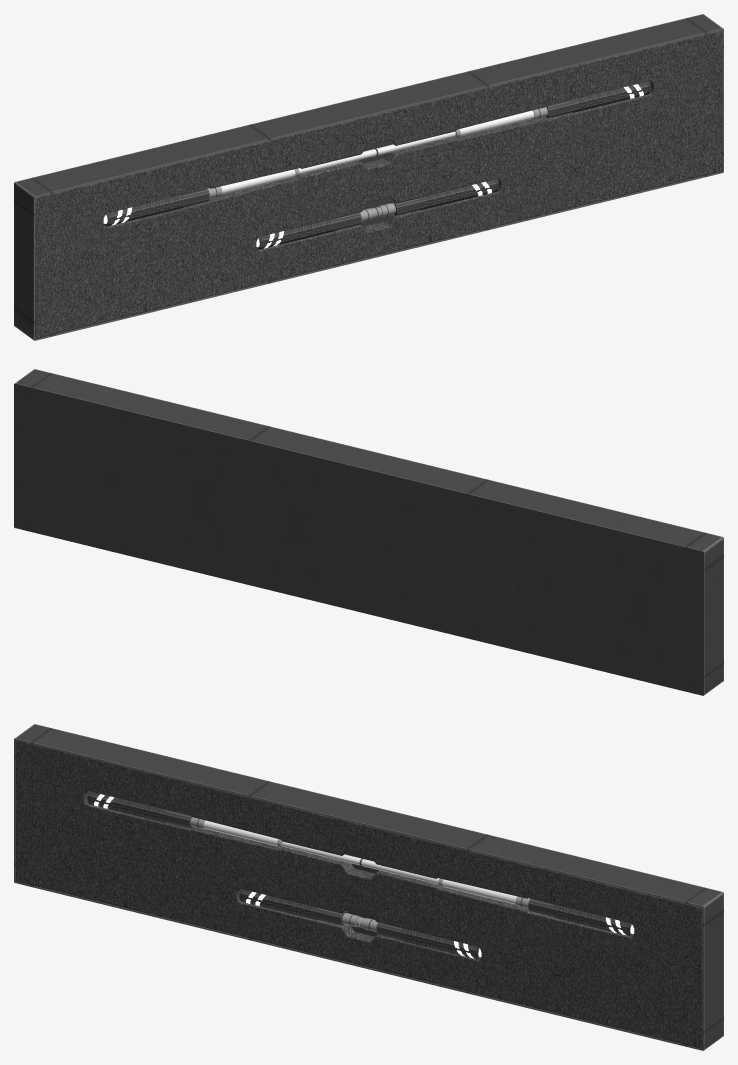
File: MeleeEnergyStaff01Case.FBX
3 renders of one model, top to bottom at view 1: azimuth 30°, elevation 25°; view 2: azimuth 150°, elevation 25°; view 3: azimuth 330°, elevation 25°, orthographic.
Parts seen in each view (by area): view 1: Case, Weapon; view 2: Case; view 3: Case, Weapon.
Boxes of the visible parts, bbox=[...] form: Case: bbox=[14, 14, 723, 340]; Weapon: bbox=[103, 81, 650, 249]; Case: bbox=[14, 369, 723, 695]; Case: bbox=[14, 724, 723, 1050]; Weapon: bbox=[87, 791, 634, 959].
Size of what is drawn, in the model's own units: 2 by 0.3999 by 0.1015.
